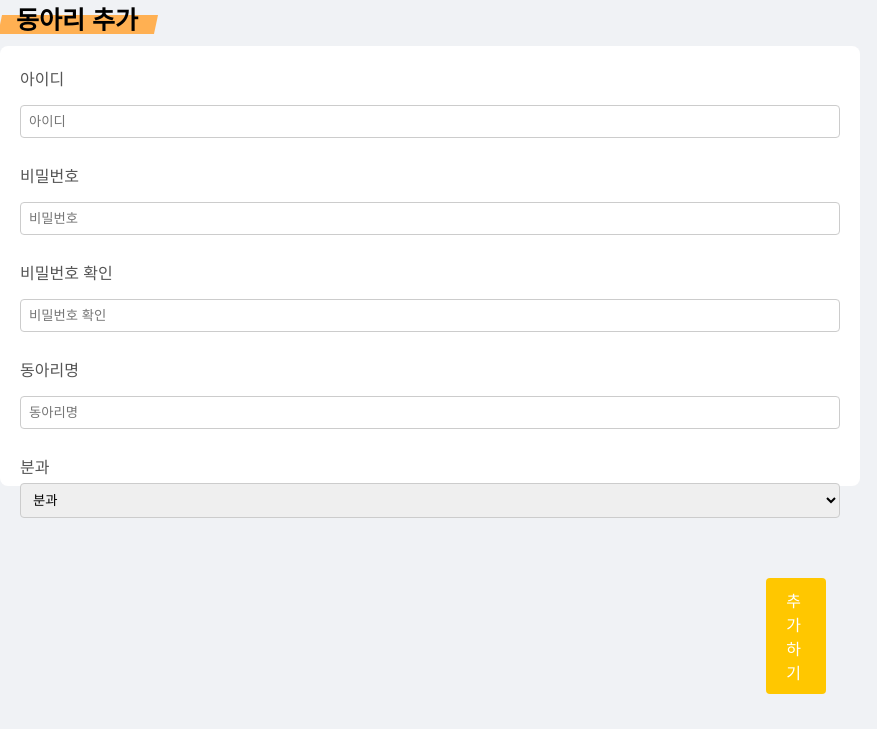
Admin AddClub.vue › shows id validation error for invalid id
Type "ab" into the field with placeholder "아이디" at (430, 122), box [20,105,840,138]
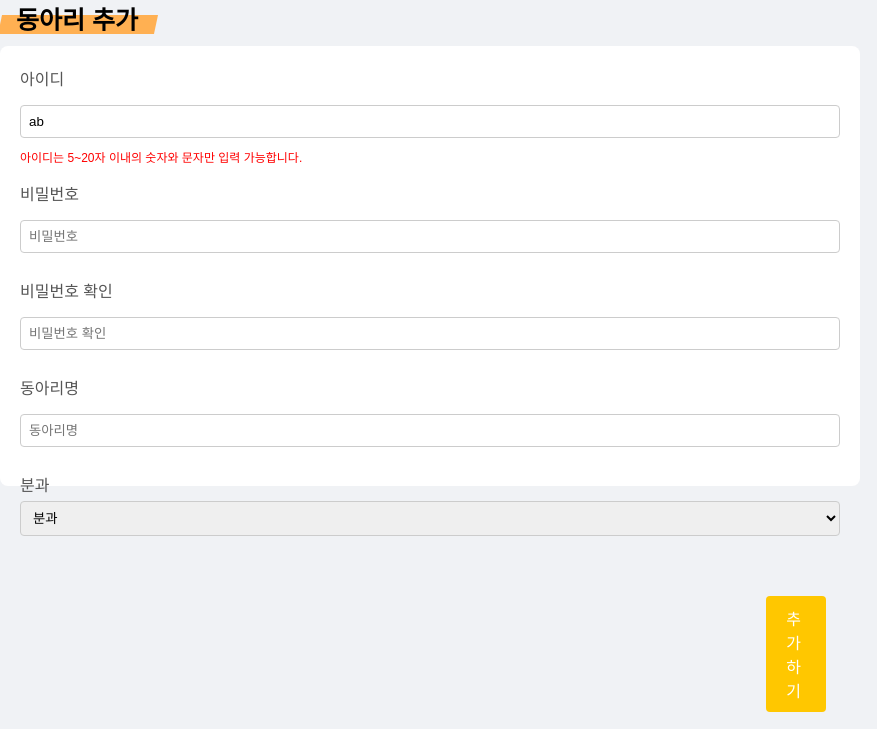
Check: the text "아이디는 5~20자 이내의 숫자와 문자만 입력 가능합니다." is shown, box [20,151,302,165]
